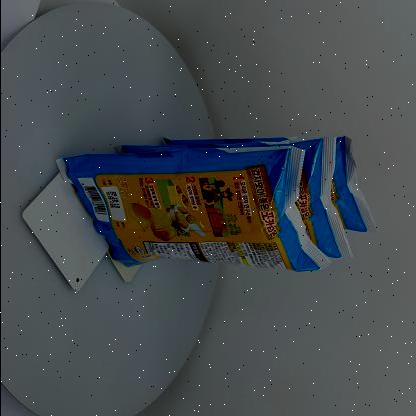Others: (46, 92, 387, 328)
